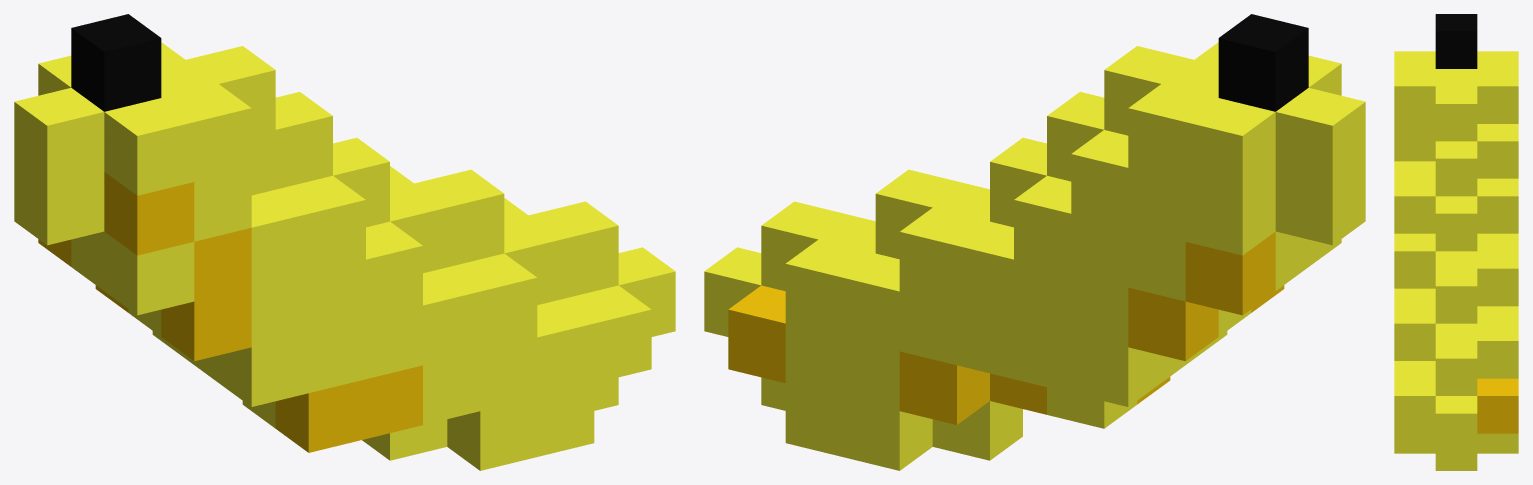
File: banana.fbx
The picture shows the model from 3 angles, left to right: view 1: azimuth 30°, elevation 25°; view 2: azimuth 150°, elevation 25°; view 3: azimuth 270°, elevation 25°; orthographic projection. The views are drawn at different scales.
Visible parts, largest first — view 1: banana; view 2: banana; view 3: banana.
Part boxes in pixels (bbox=[...]): banana: bbox=[14, 14, 675, 470]; banana: bbox=[704, 14, 1365, 470]; banana: bbox=[1394, 14, 1518, 470].
Size of the model in its own units: 110 by 80 by 30.
